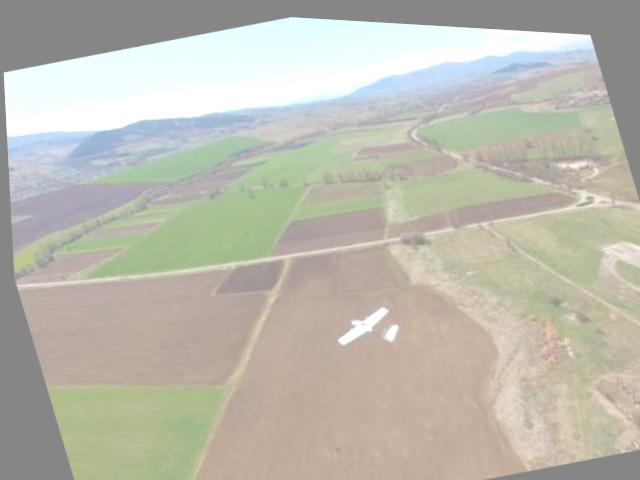uav: (321, 282, 407, 357)
